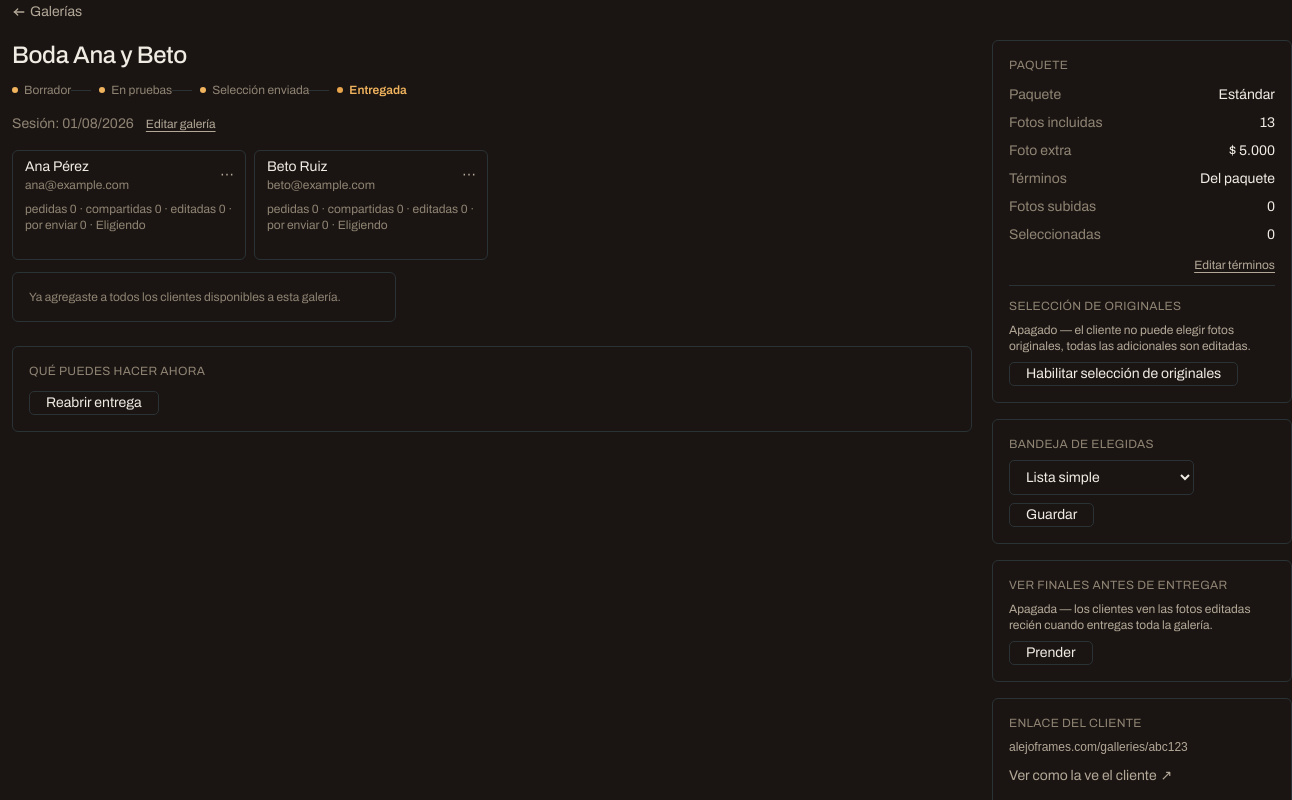
Scenario: GalleryDetailPage — attaching and removing clients (task #97) › names what removal costs a client on a DELIVERED gallery before confirming
Click the button named "Acciones para Ana Pérez" at [227, 175], box [215,163,239,187]
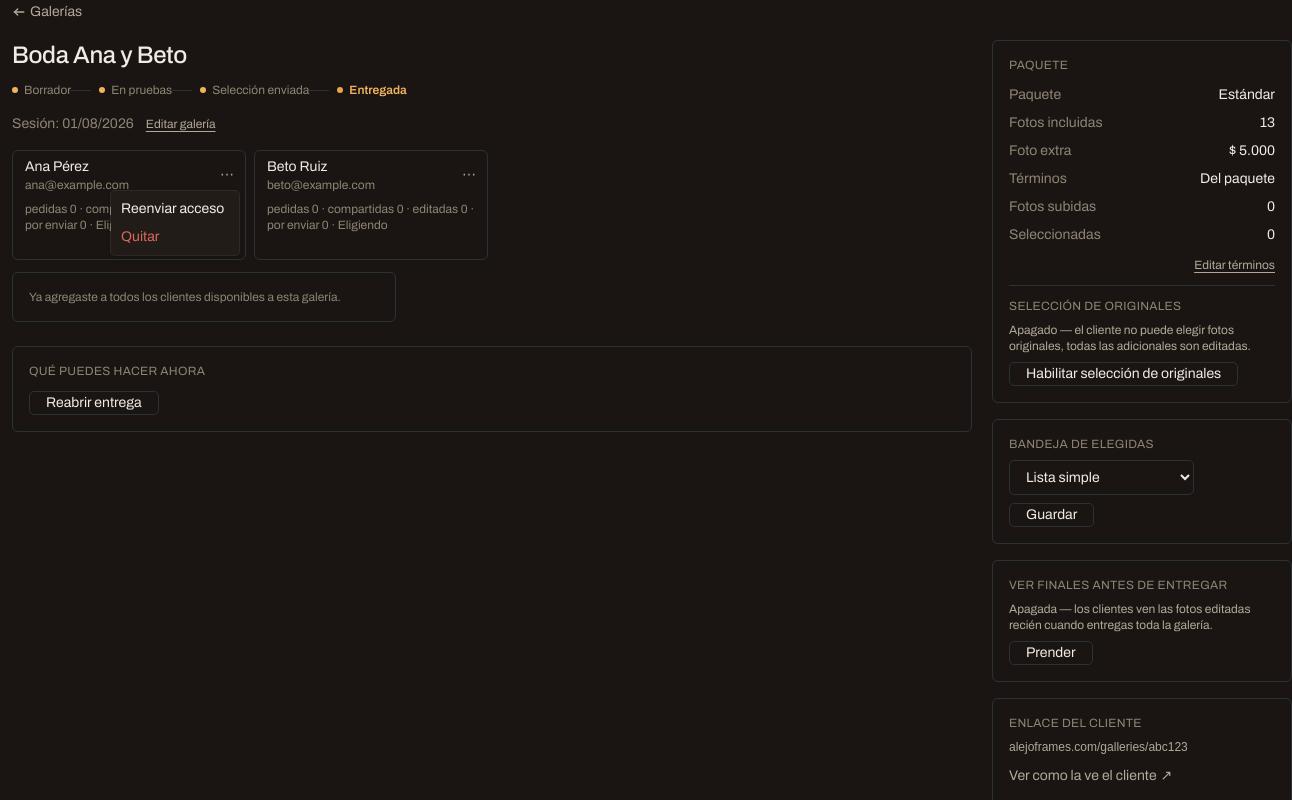
Click the menu item "Quitar" at [140, 236], box [121,229,160,244]
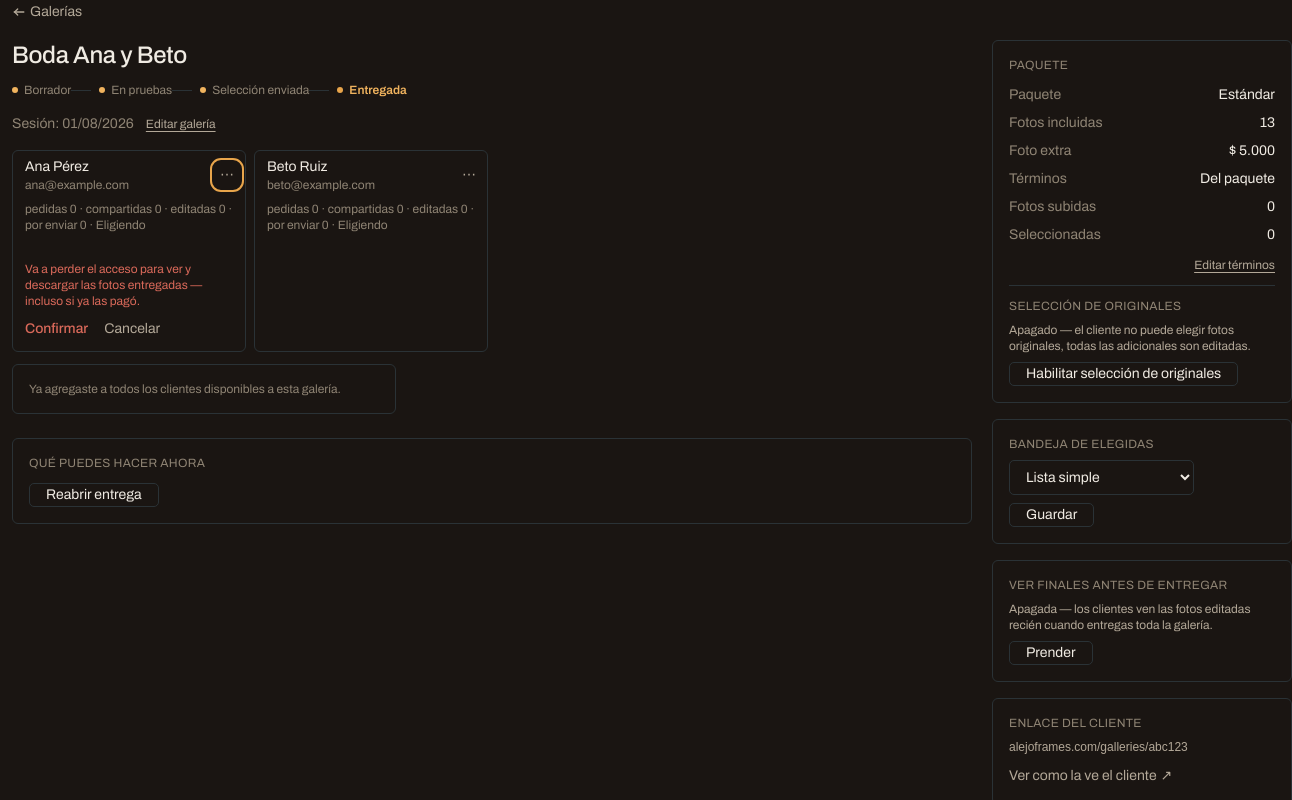
Expected: the text "perder el acceso para ver y descargar las fotos entregadas" is shown, [25,262,202,308]
Expected: the button "Confirmar" is shown, [25,317,88,341]
